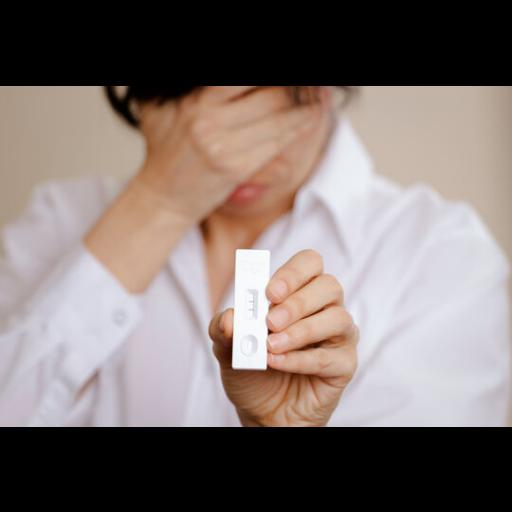Pos: (235, 248, 267, 368)
